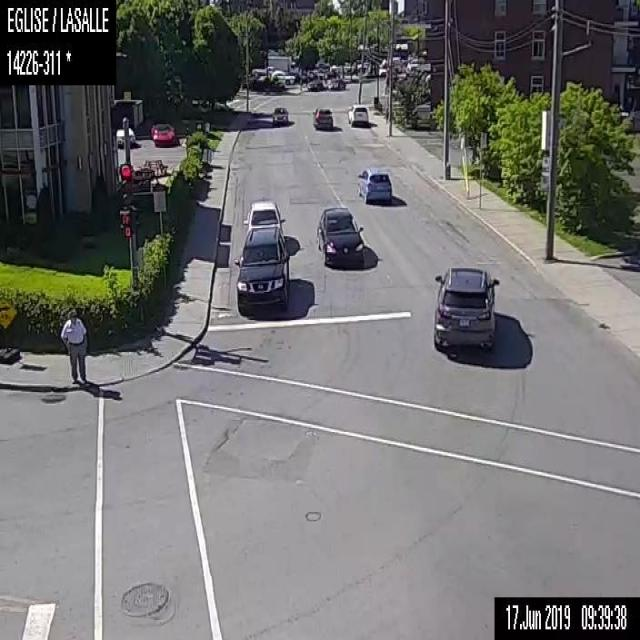pedestrian: (59, 308, 88, 383)
vehicle: (432, 266, 498, 350), (232, 226, 291, 314), (314, 206, 364, 266), (242, 199, 285, 235), (354, 168, 391, 203), (266, 53, 297, 72), (150, 124, 176, 146), (311, 104, 333, 129), (346, 102, 368, 126), (115, 125, 135, 147), (271, 103, 288, 125), (271, 69, 293, 82), (327, 77, 345, 90), (307, 78, 323, 91)
